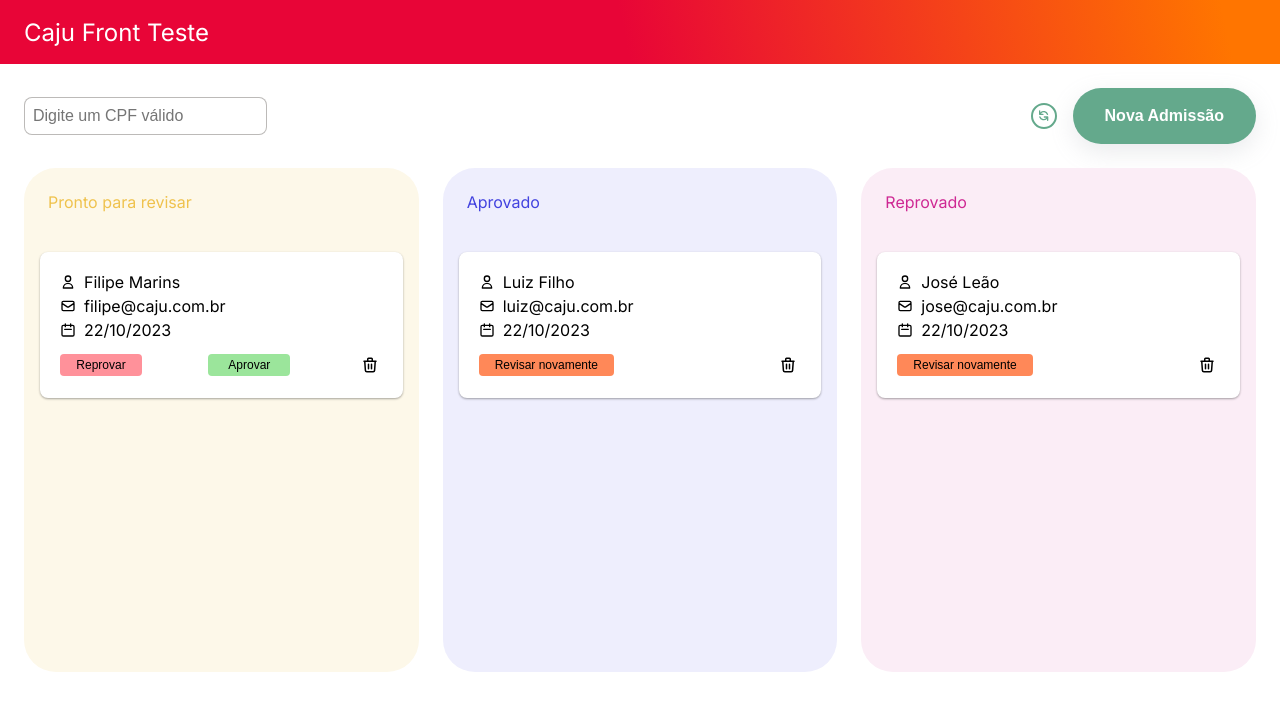
Dashboard Page › should clear the CPF input after finding the user-card
The image size is (1280, 720).
Type "566.421.050-87" into the field titled "Busque por CPF" at (146,116), box [24,97,267,135]
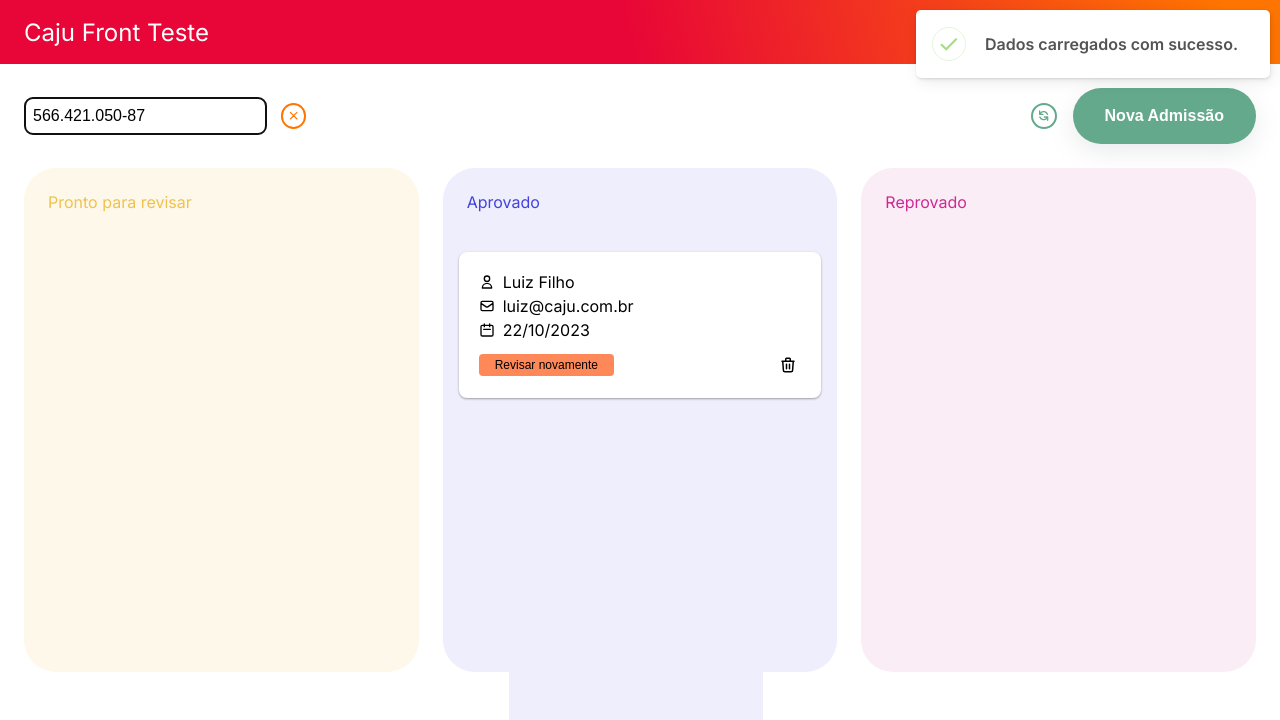
Click the button titled "Limpar CPF" at (294,116), box [281,103,306,128]
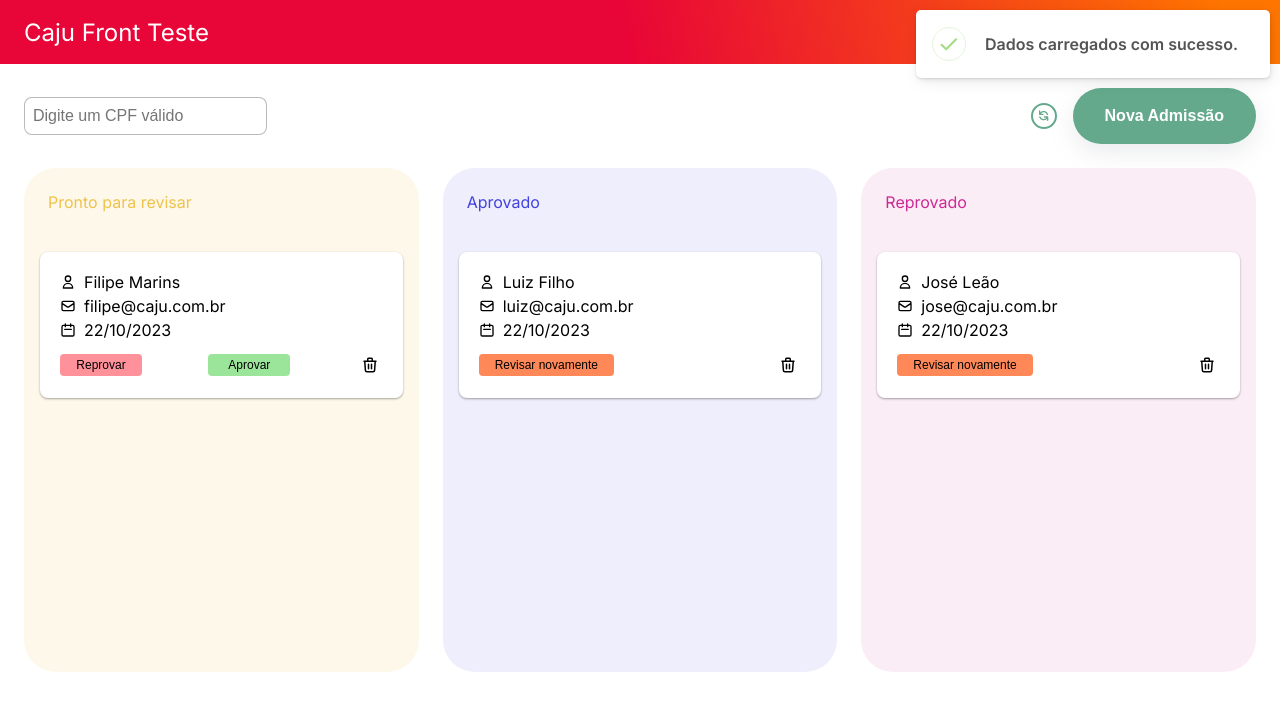
Expected: the list item with test id "user-card-Luiz Filho" is shown, [459,252,822,398]
Expected: the list item with test id "user-card-Filipe Marins" is shown, [40,252,403,398]
Expected: the list item with test id "user-card-José Leão" is shown, [877,252,1240,398]
